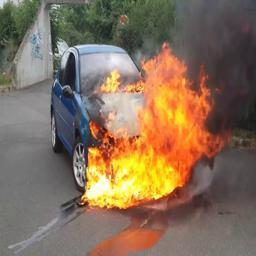fire: (80, 43, 230, 209), (100, 68, 143, 93)
